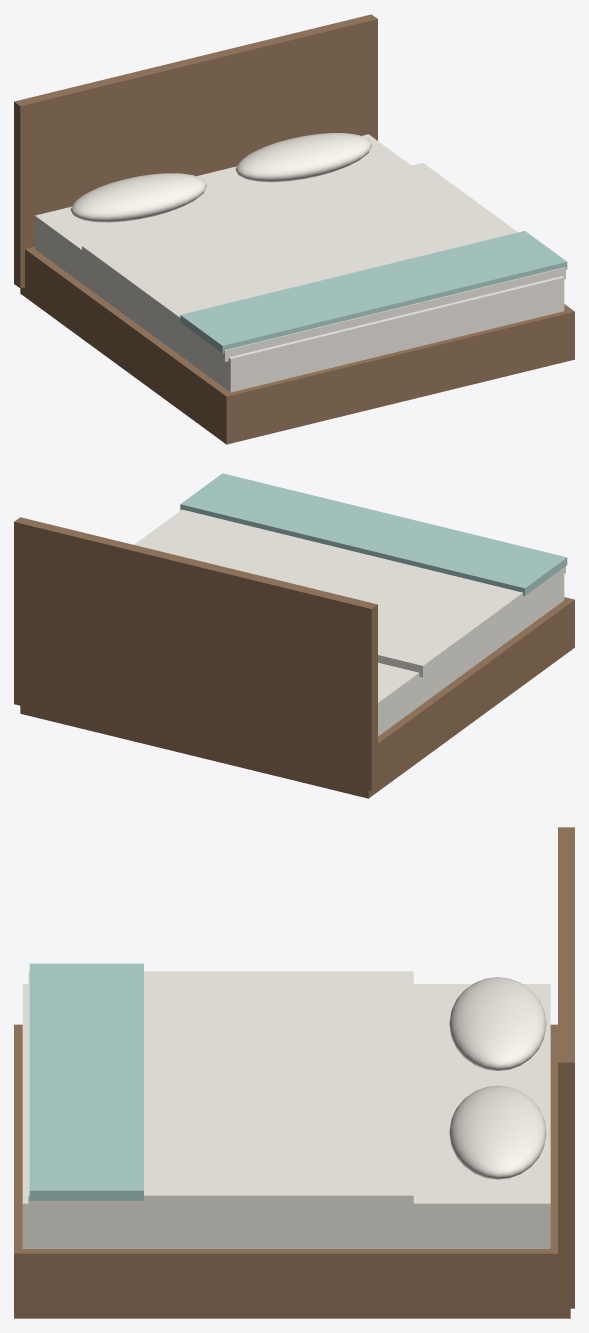
Rendered from bed.glb.
3 views of the same model, one above another, from view 1: azimuth 30°, elevation 25°; view 2: azimuth 150°, elevation 25°; view 3: azimuth 270°, elevation 25° (orthographic). The views are drawn at different scales.
Visible parts, largest first — view 1: bed; view 2: bed; view 3: bed.
Boxes of the visible parts, x1,y1,x2,y2 form: bed: [14, 14, 574, 444]; bed: [14, 473, 574, 798]; bed: [14, 827, 574, 1318].
Size of the model in its own units: 1.95 by 1 by 1.96.
